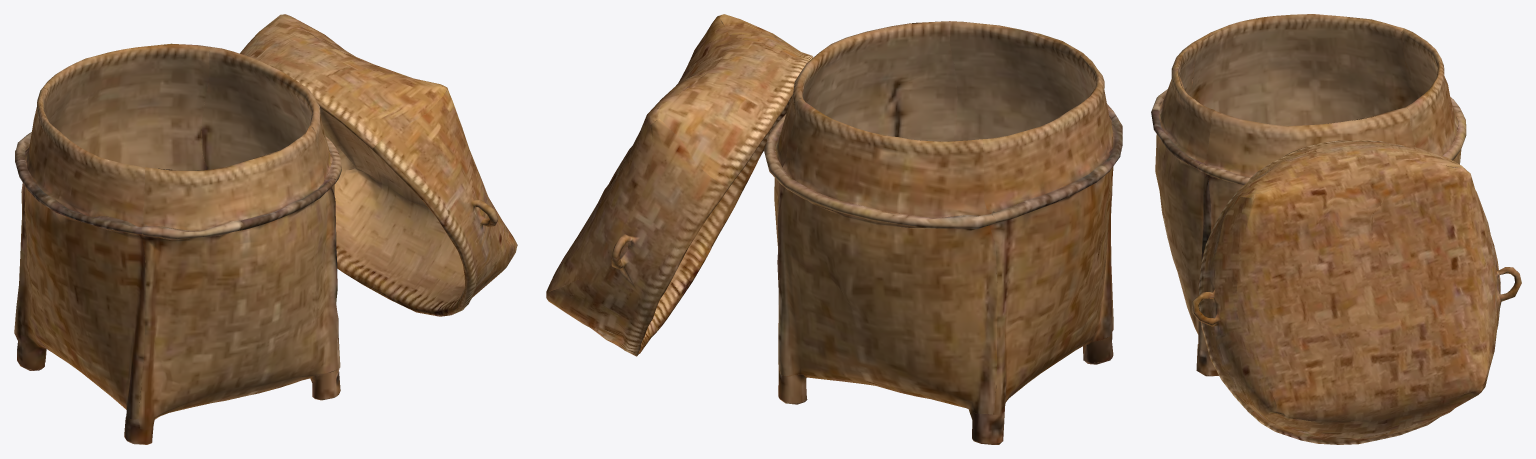
Rendered from wicker_basket_02.glb.
The picture shows the model from 3 angles, left to right: view 1: azimuth 30°, elevation 25°; view 2: azimuth 150°, elevation 25°; view 3: azimuth 270°, elevation 25°; orthographic projection. The views are drawn at different scales.
Visible parts, largest first — view 1: wicker_basket_02_base, wicker_basket_02_lid; view 2: wicker_basket_02_base, wicker_basket_02_lid; view 3: wicker_basket_02_lid, wicker_basket_02_base.
Part boxes in pixels (x1,y1,x2,y2): wicker_basket_02_base: [14, 43, 341, 444]; wicker_basket_02_lid: [240, 14, 517, 316]; wicker_basket_02_base: [764, 21, 1122, 444]; wicker_basket_02_lid: [546, 14, 813, 356]; wicker_basket_02_lid: [1192, 140, 1521, 444]; wicker_basket_02_base: [1151, 14, 1466, 376].
Bounding box in the file's own units: 0.3465 × 0.2005 × 0.2545.
1 material, 1 textured.
